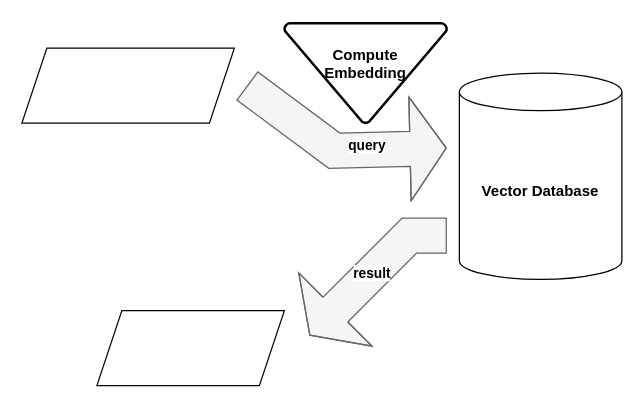
The diagram is 644 pixels wide and 408 high, and some of its shapes have lost their labels. Here are the shapes that lost their labels. From the top down, the box of each, then its label:
(21, 47, 234, 123): Prompt Text
(96, 309, 284, 386): Retrieved Chunk
